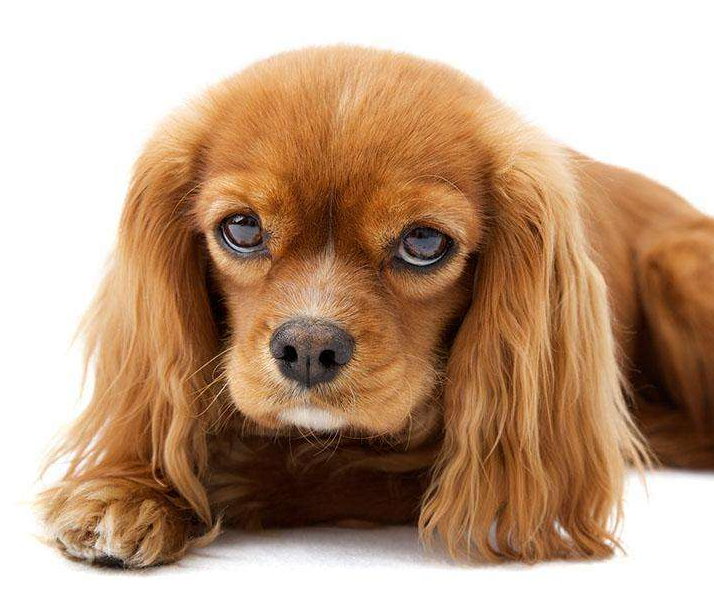nose: (267, 314, 363, 388)
